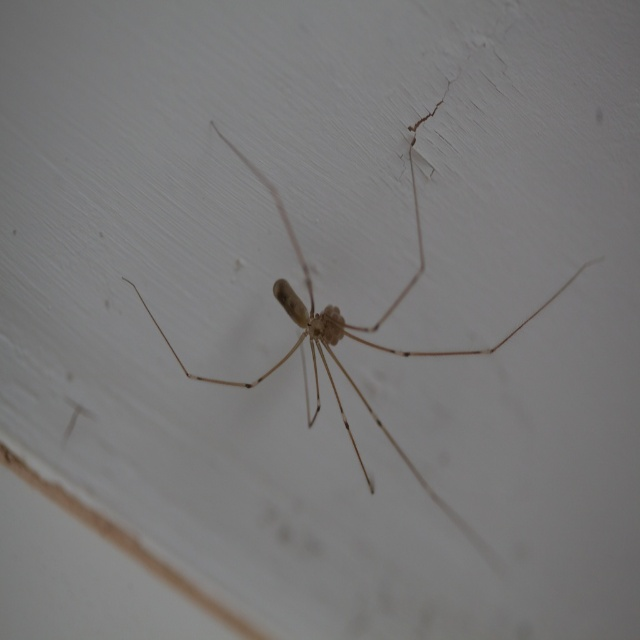Spider: (122, 120, 604, 565)
